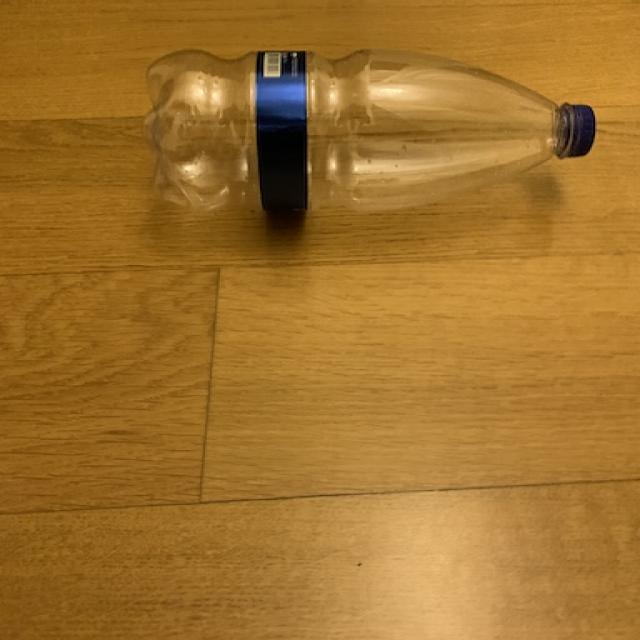Waste: (145, 49, 597, 210)
